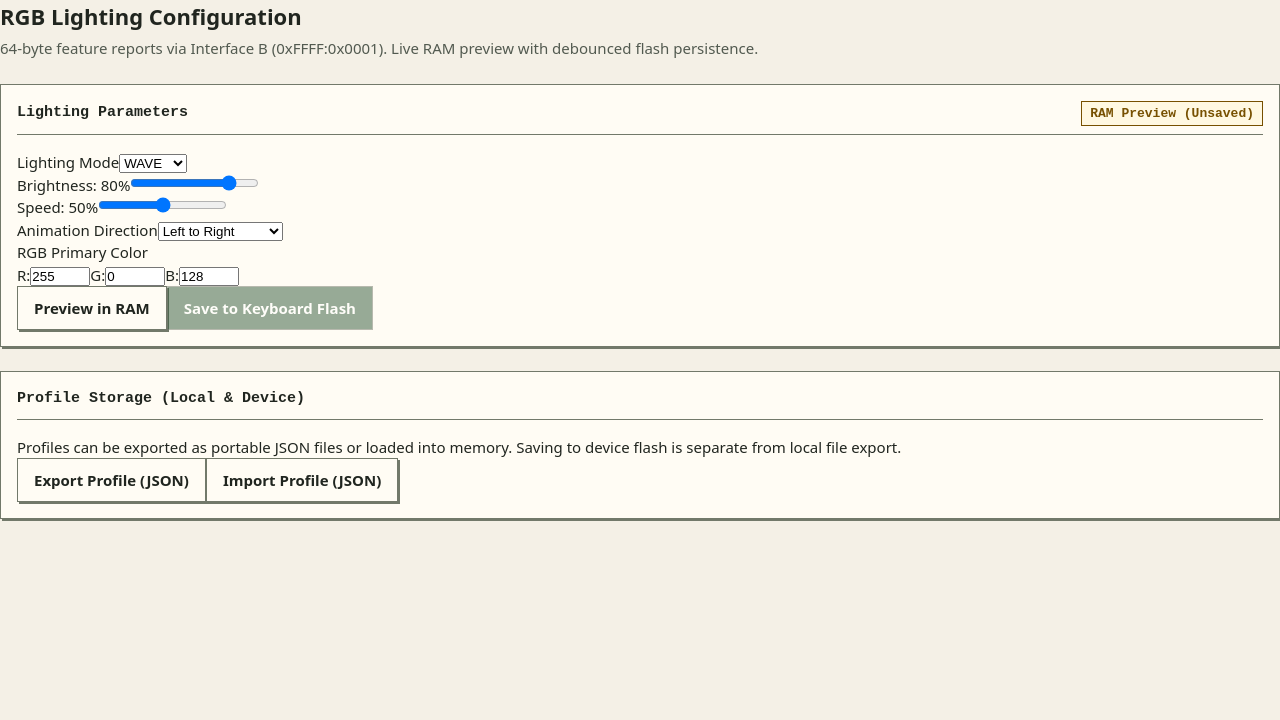
it: LightingPage Workflow and Safety Rails › handles low battery persistence block accurately
Expected: the heading "RGB Lighting Configuration" is shown, [0,1,302,31]
Click the button "Preview in RAM" at point(92, 308), box [17,286,167,330]
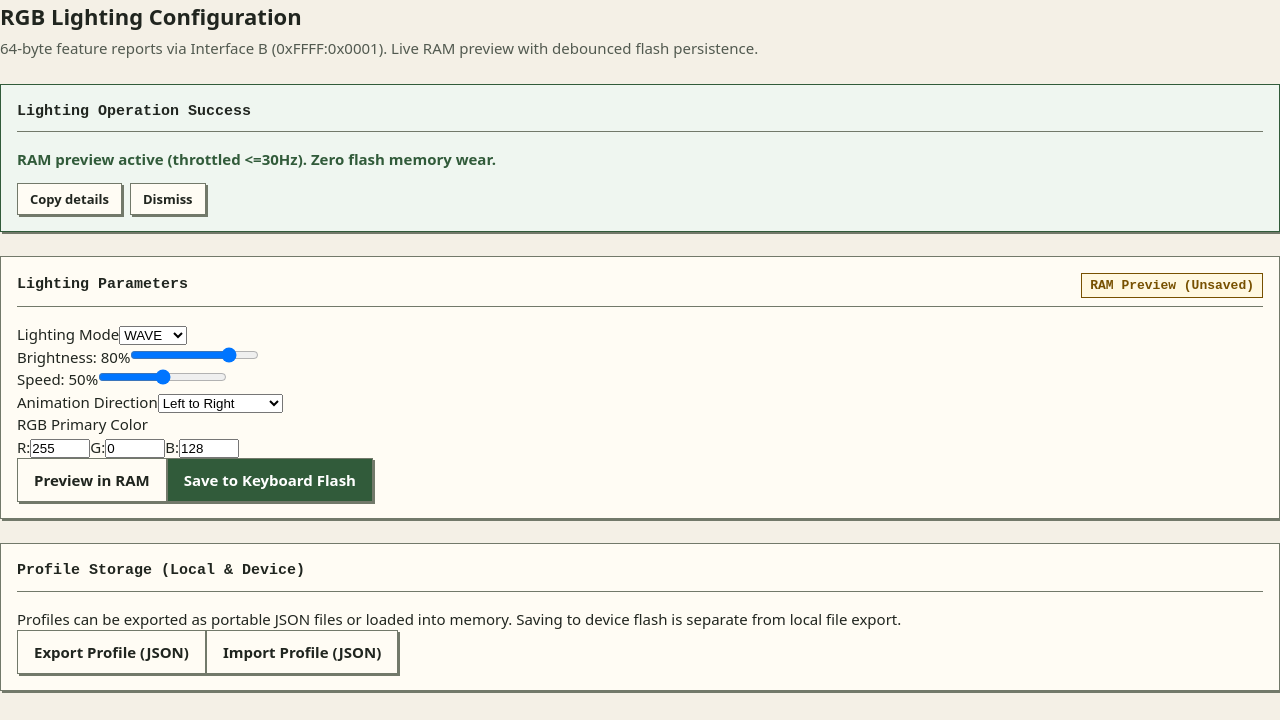
Now the text "RAM preview active" is shown, box [17,149,496,169]
Click the button "Save to Keyboard Flash" at point(270, 480), box [167,458,373,502]
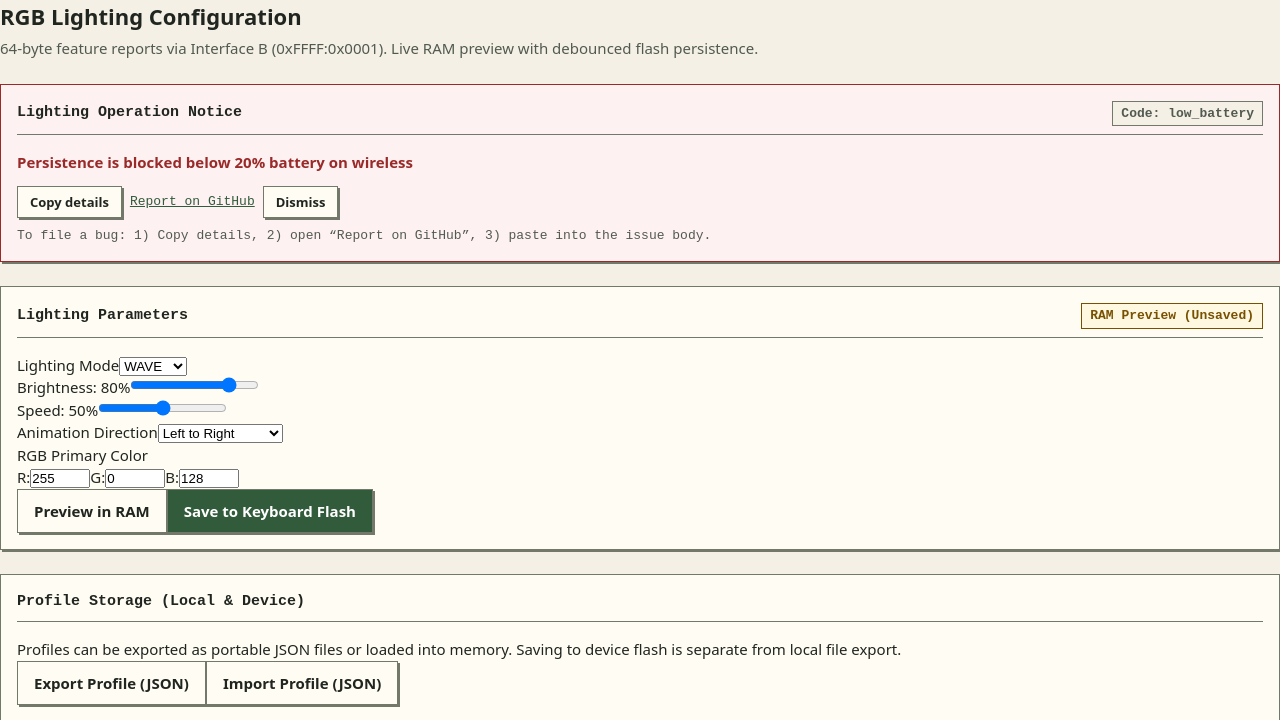
Now the text "Persistence is blocked below 20% battery on wireless" is shown, box [17,152,413,172]
